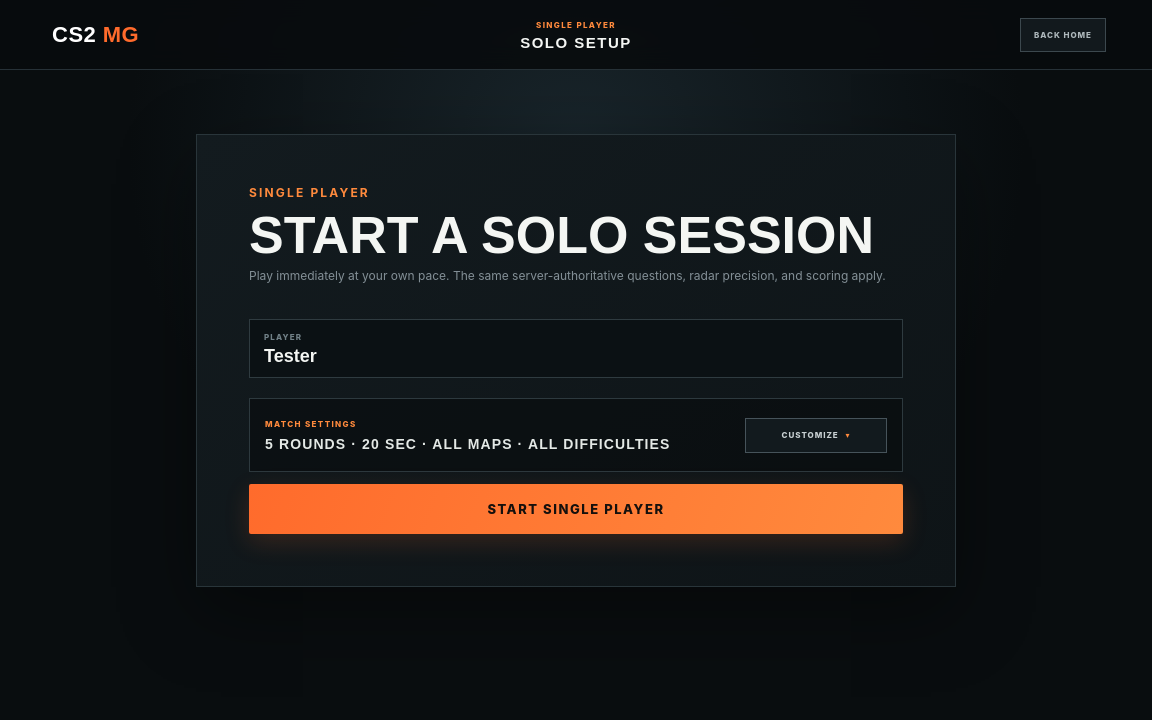
Test: SoloPage setup › starts the separate HTTP solo session with exact defaults and no room or WebSocket
Step 1. Click the button "START SINGLE PLAYER" → (576,509), box [249,484,903,534]
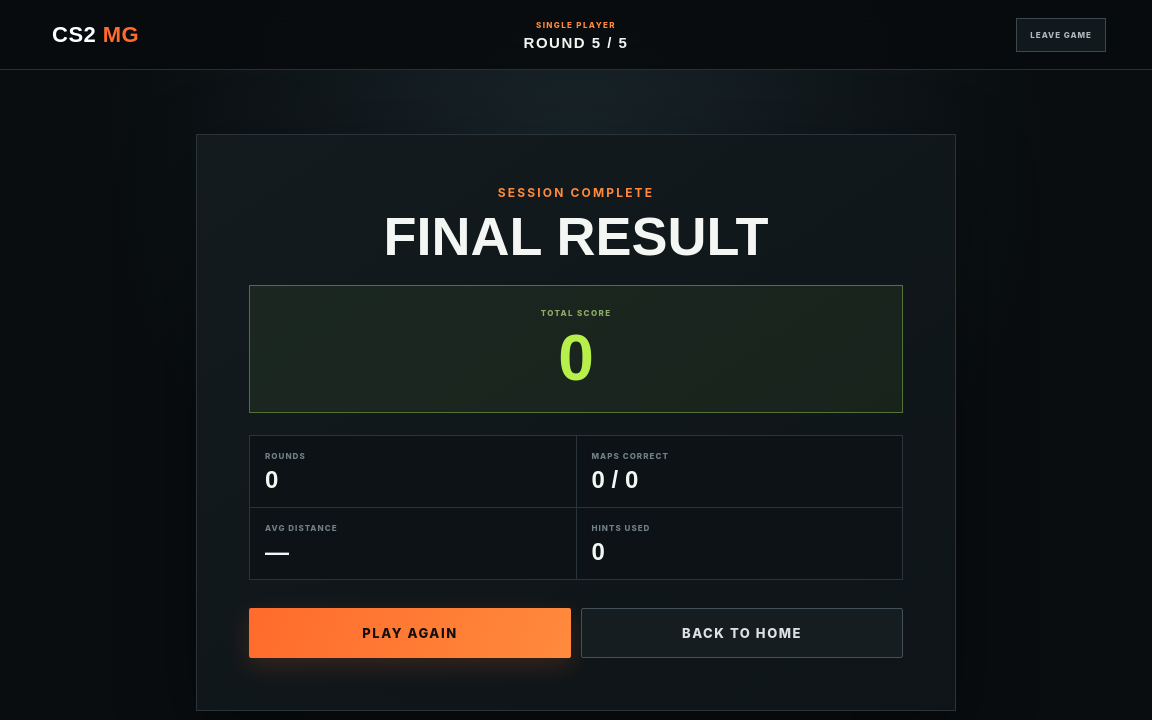
Check: the text "SESSION COMPLETE" is shown, box [498,185,654,200]
